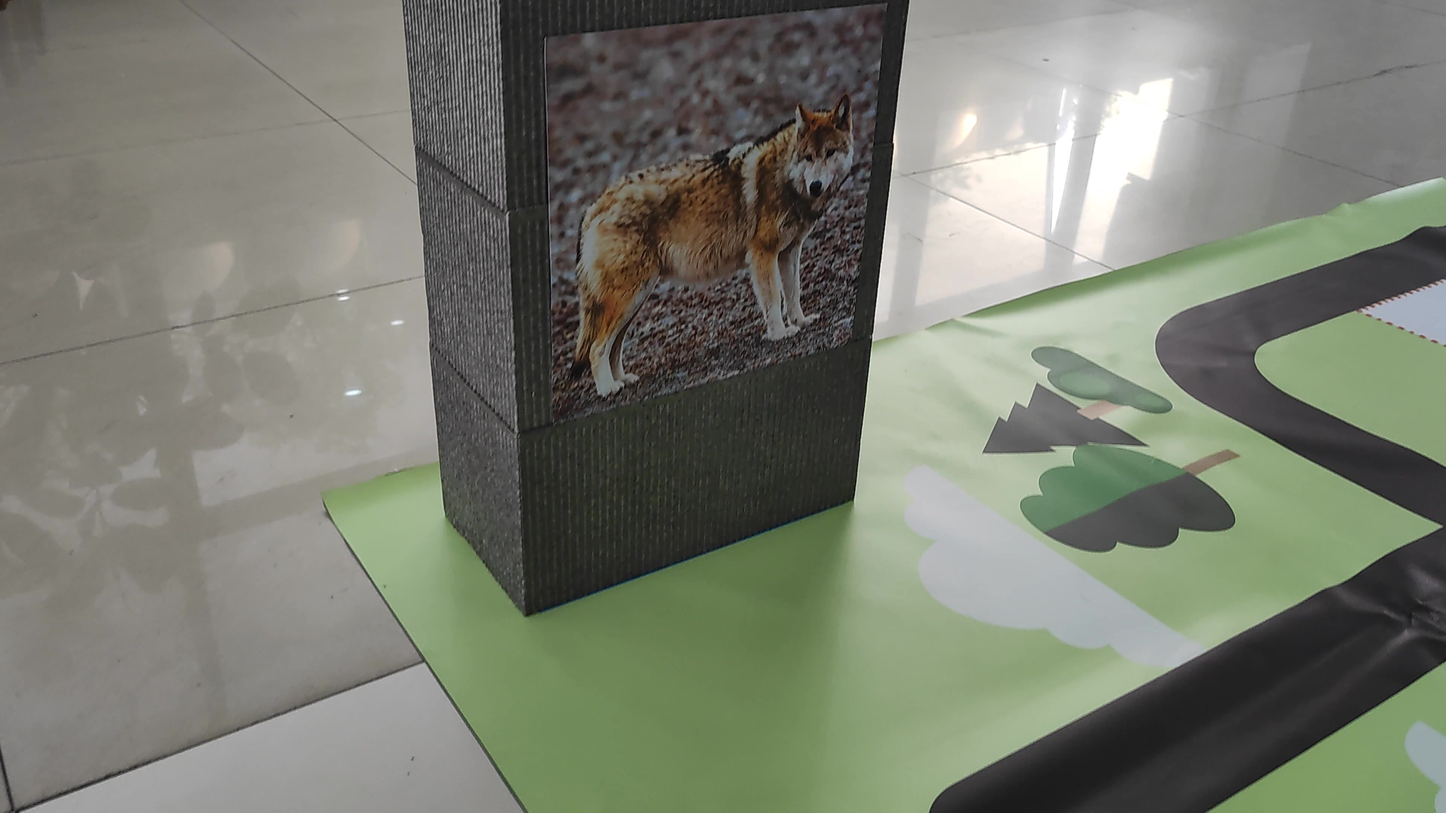wolf: (543, 73, 855, 405)
